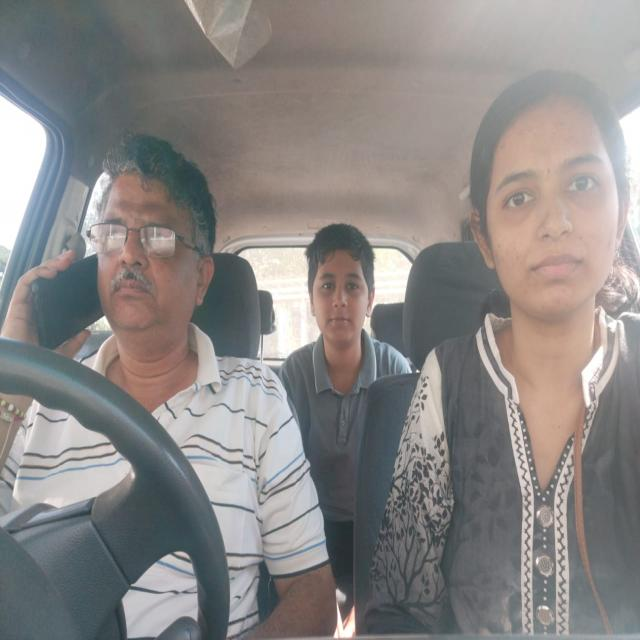mobile: (23, 248, 104, 350)
person: (463, 63, 640, 358), (27, 127, 220, 364), (296, 148, 384, 382)
